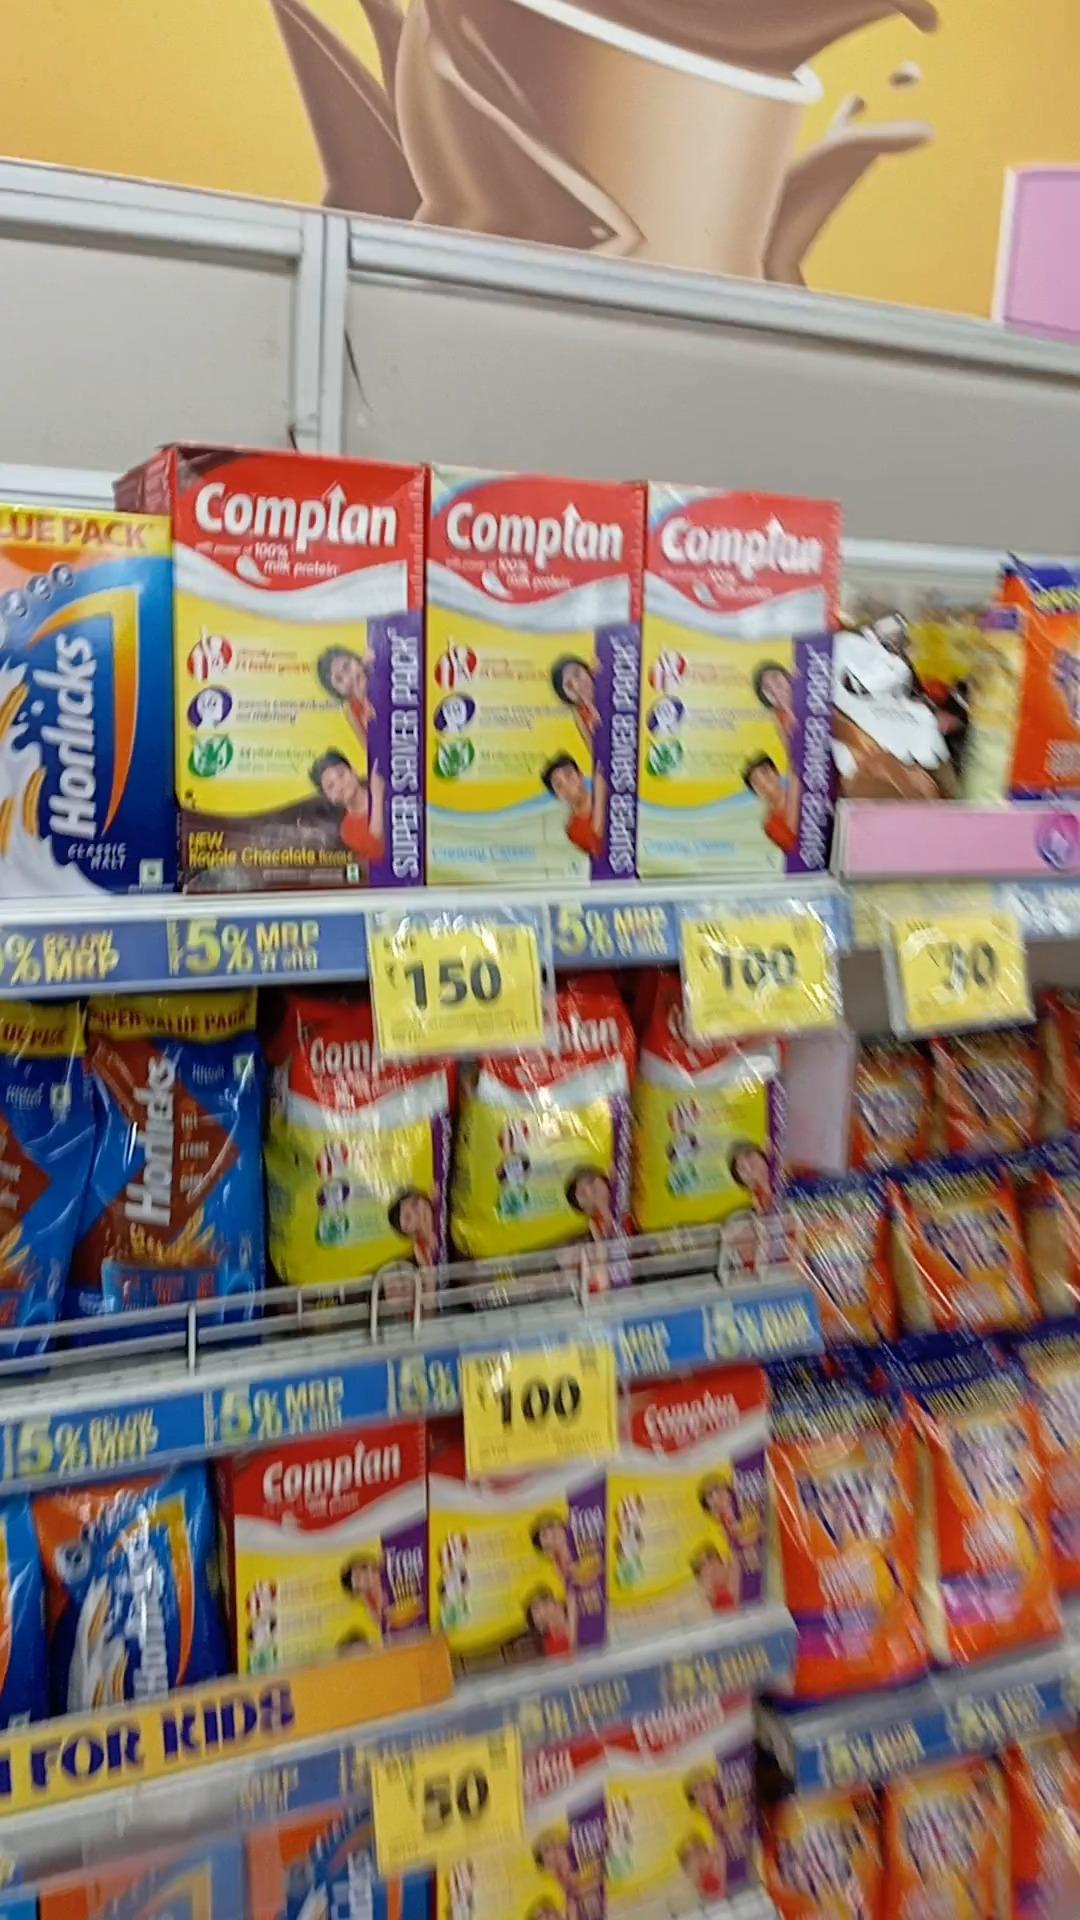COMPLAN_CHOCOLATE_1_KG_PACK: (173, 451, 417, 889)
COMPLAN_CHOCOLATE_500_GMS_PACK: (433, 1444, 608, 1659)
COMPLAN_KESAR_BADAM_500_GMS_PACK: (612, 1383, 777, 1654)
COMPLAN_RC_POUCH_700_GMS_12: (280, 1023, 448, 1329), (464, 1043, 629, 1300), (636, 997, 793, 1259)
HORLICK_CHOCOLATE_750_G_POUCH: (80, 990, 266, 1333)
HORLICK_CLASSIC_MALT_750_G_POUCH: (44, 1480, 229, 1698)
